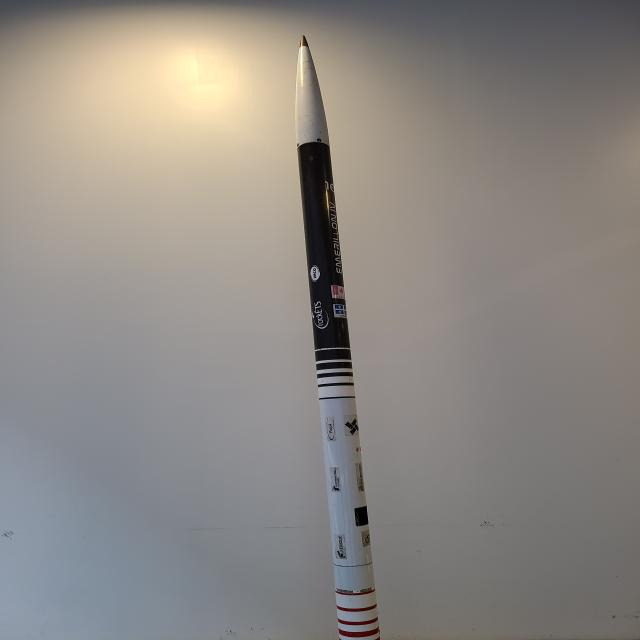Rocket: (294, 34, 381, 640)
